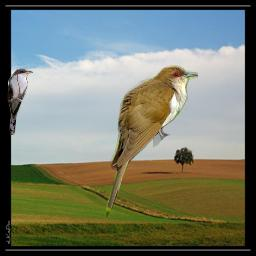Cuckoo: (105, 64, 198, 220), (7, 68, 33, 135)
